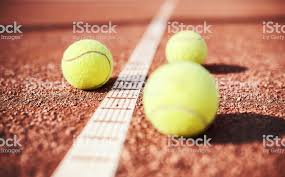tennis_ball: (141, 61, 220, 139), (61, 38, 113, 92), (165, 29, 207, 66)
